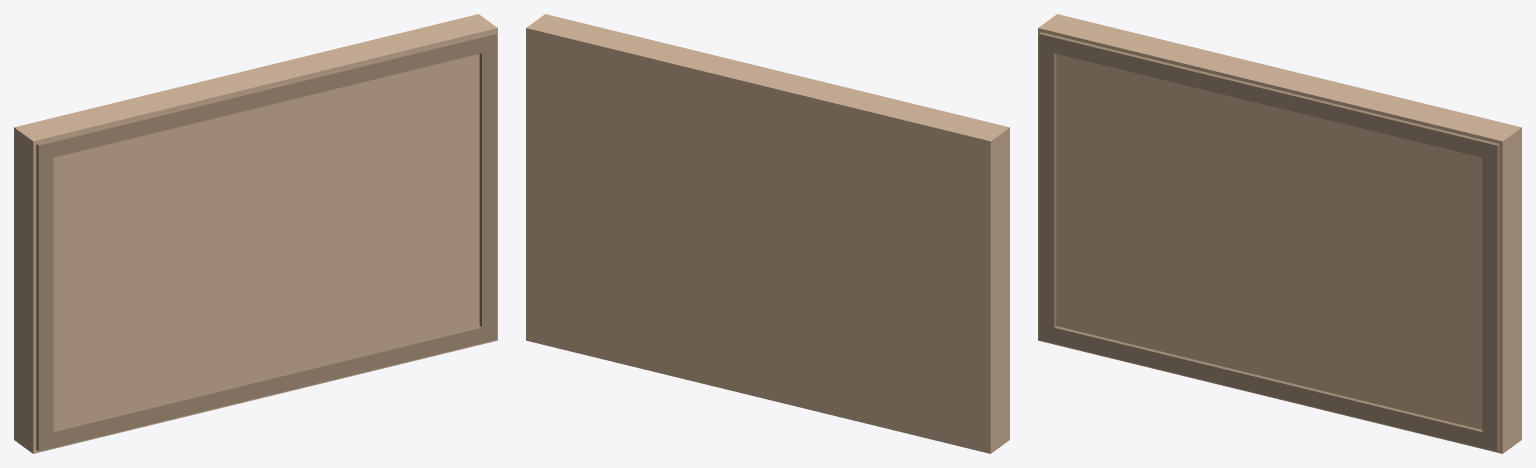
File: sign_jungle_wall.gltf
3 views of the same model, side by side, from view 1: azimuth 30°, elevation 25°; view 2: azimuth 150°, elevation 25°; view 3: azimuth 330°, elevation 25° (orthographic).
Visible parts, largest first — view 1: sign_jungle_wall; view 2: sign_jungle_wall; view 3: sign_jungle_wall.
Boxes of the visible parts, box(x1,y1,x2,y2) form: sign_jungle_wall: box(14, 14, 497, 453); sign_jungle_wall: box(526, 14, 1009, 453); sign_jungle_wall: box(1038, 14, 1521, 453).
Size of the model in its own units: 0.875 by 0.5625 by 0.07.
